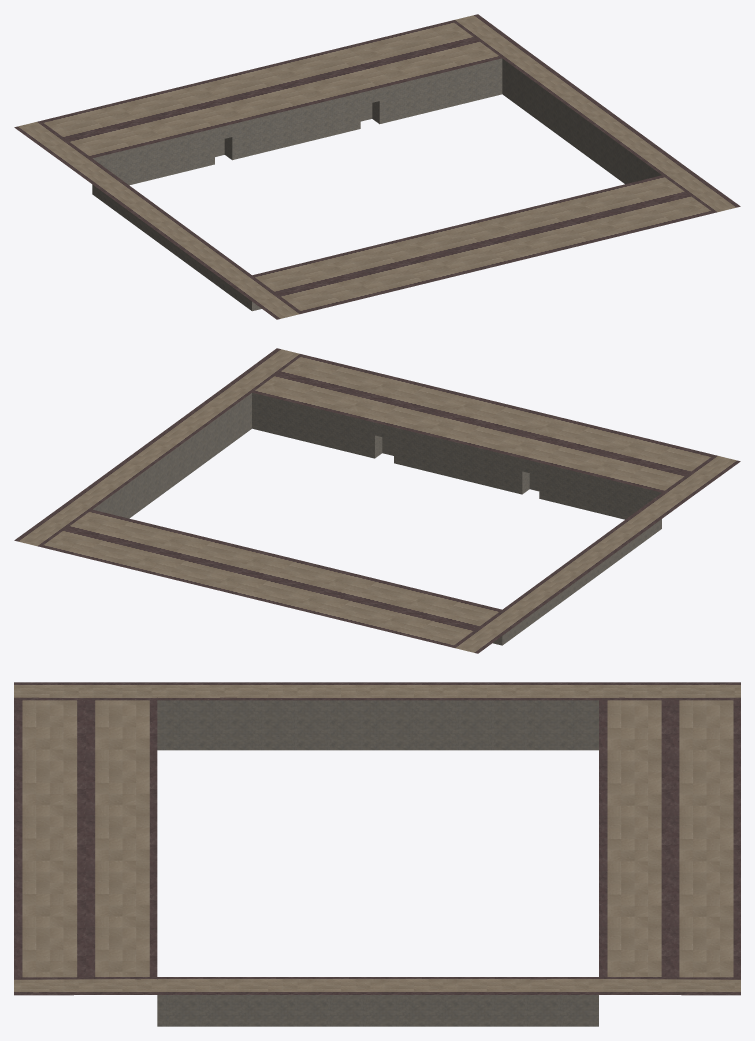
The model's file is Stadium_Ground_Wall.FBX.
The picture shows the model from 3 angles, top to bottom: view 1: azimuth 30°, elevation 25°; view 2: azimuth 150°, elevation 25°; view 3: azimuth 270°, elevation 25°; orthographic projection. The views are drawn at different scales.
Parts seen in each view (by area): view 1: Stadium_Ground_Wall; view 2: Stadium_Ground_Wall; view 3: Stadium_Ground_Wall.
Part boxes in pixels (left/top/right/bottom): Stadium_Ground_Wall: left=14, top=14, right=740, bottom=319; Stadium_Ground_Wall: left=14, top=348, right=740, bottom=653; Stadium_Ground_Wall: left=14, top=682, right=740, bottom=1026.
Bounding box in the file's own units: 69616 × 5163 × 68312.
